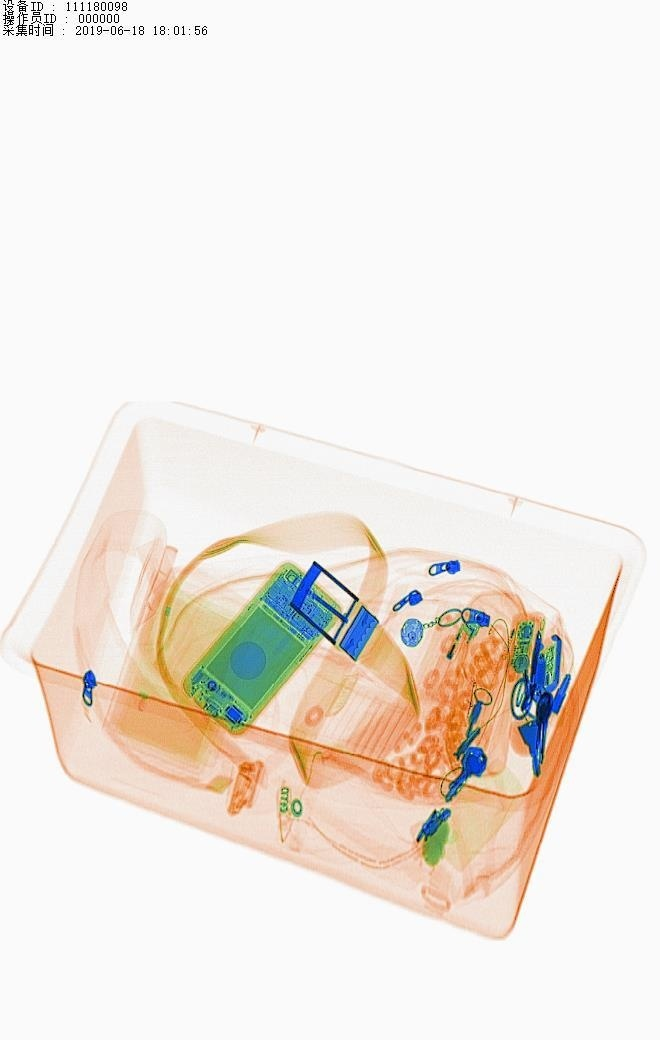NonmetallicFire: (427, 608, 484, 708)
